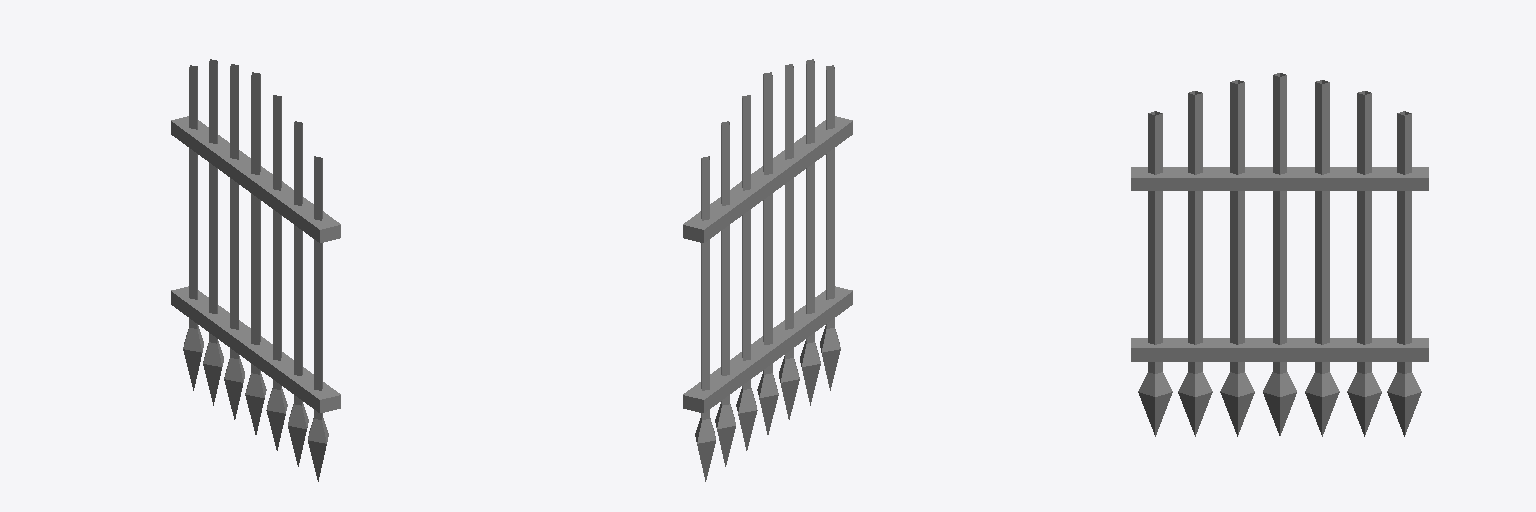
File: Portcullis.obj
3 renders of one model, left to right at view 1: azimuth 30°, elevation 25°; view 2: azimuth 150°, elevation 25°; view 3: azimuth 270°, elevation 25°, orthographic.
Parts seen in each view (by area): view 1: Palette; view 2: Palette; view 3: Palette.
Boxes of the visible parts, box(x1,y1,x2,y2) form: Palette: box(171, 59, 340, 481); Palette: box(683, 59, 852, 481); Palette: box(1131, 73, 1428, 436).
Bounding box in the file's own units: 0.25 × 4.01 × 3.